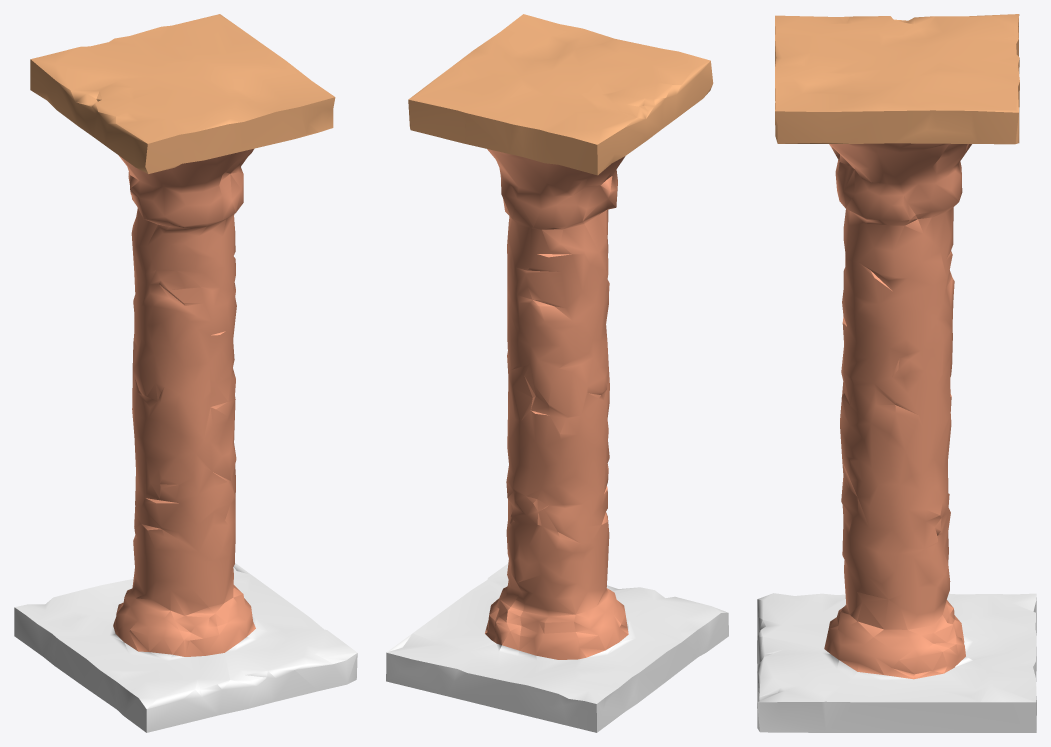
Rendered from Pillar3_fbx.fbx.
The picture shows the model from 3 angles, left to right: view 1: azimuth 30°, elevation 25°; view 2: azimuth 150°, elevation 25°; view 3: azimuth 270°, elevation 25°; orthographic projection. The views are drawn at different scales.
Visible parts, largest first — view 1: Pillar_3; view 2: Pillar_3; view 3: Pillar_3.
Boxes of the visible parts, left/top/right/bottom form: Pillar_3: left=14, top=14, right=357, bottom=732; Pillar_3: left=386, top=14, right=728, bottom=732; Pillar_3: left=757, top=14, right=1036, bottom=732.
Bounding box in the file's own units: 2.76 × 7.29 × 2.99.
